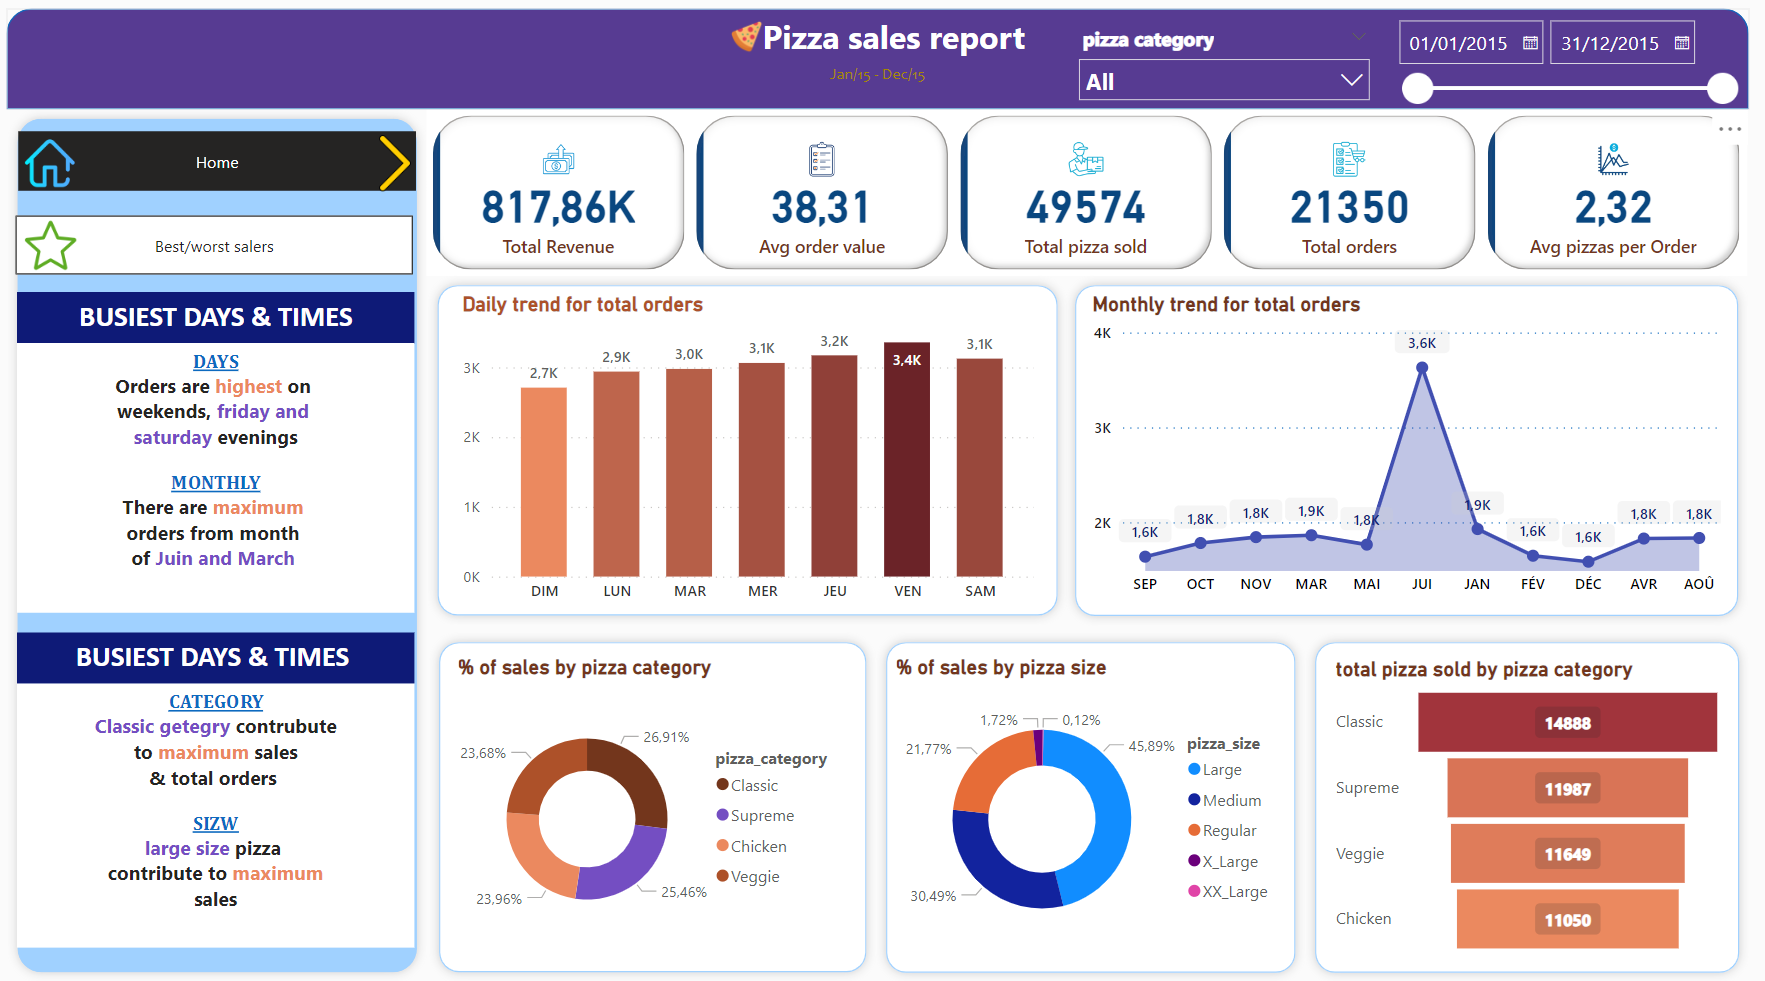

What the dashboard file says about the page in this screenshot:
{"tool":"powerbi","page":{"name":"Home","canvas":[1500,820],"ordinal":0},"visuals":[{"type":"shape","box":[37.4,94.7,347.5,724.9],"z":0},{"type":"textbox","box":[44.8,246.6,330.1,42.3],"z":1000},{"type":"cardVisual","fields":{"Data":["pizza_sales.Total Revenue","pizza_sales.Avg order value","pizza_sales.Total pizza sold","pizza_sales.Total orders","pizza_sales.Avg pizzas per Order"]},"box":[384.9,94.2,1096.9,138.8],"z":2000},{"type":"shape","box":[36.5,10.6,1446.8,83.7],"z":3000},{"type":"textbox","box":[651.4,11.2,242.9,46.1],"z":4000},{"type":"textbox","box":[702.1,49.6,114,31.4],"z":5000},{"type":"image","box":[629.4,16.5,43,36.3],"z":6000},{"type":"shape","box":[385.7,233.4,530.8,290.3],"z":7000},{"type":"columnChart","title":"Daily trend for total orders","fields":{"Category":["pizza_sales.Order day"],"Y":["pizza_sales.Total orders"]},"box":[409.7,246.1,484,266],"z":8000},{"type":"shape","box":[915.2,232.9,566.6,290.7],"z":9000},{"type":"areaChart","title":"Monthly trend for total orders","fields":{"Y":["pizza_sales.Total orders"],"Category":["pizza_sales.Order month"]},"box":[932.9,246.6,531.9,260.3],"z":10000},{"type":"shape","box":[387.7,529.2,370.8,290.1],"z":11000},{"type":"shape","box":[759.1,529.4,356,290.6],"z":12000},{"type":"shape","box":[1115.1,529.4,368.2,290.6],"z":13000},{"type":"donutChart","title":"% of sales by pizza category","fields":{"Category":["pizza_sales.pizza_category"],"Y":["pizza_sales.Total Revenue"]},"box":[406.2,547.7,331.6,252.5],"z":14000},{"type":"donutChart","title":"% of sales by pizza size","fields":{"Category":["pizza_sales.pizza_size"],"Y":["pizza_sales.Total Revenue"]},"box":[769.8,547.7,331.6,252.5],"z":15000},{"type":"funnel","title":"total pizza sold by pizza category","fields":{"Category":["pizza_sales.pizza_category"],"Y":["pizza_sales.Total pizza sold"]},"box":[1134.9,549.2,331.6,252.5],"z":16000},{"type":"textbox","box":[44.8,289,330.1,224.2],"z":17000},{"type":"textbox","box":[44.8,529.4,330.1,42.3],"z":18000},{"type":"textbox","box":[44.8,571.7,330.1,219.2],"z":19000},{"type":"slicer","fields":{"Values":["pizza_sales.pizza_category"]},"box":[917.3,19.8,261.7,74.5],"z":20000},{"type":"slicer","fields":{"Values":["pizza_sales.order_date"]},"box":[1179,10.6,302.7,91.3],"z":21000},{"type":"pageNavigator","box":[45.8,113.7,330.1,49.5],"z":22000},{"type":"pageNavigator","box":[44,183.4,330.1,49.5],"z":23000},{"type":"image","box":[330.1,108.2,56.8,62.3],"z":23001},{"type":"image","box":[45.8,108.2,51.3,62.3],"z":23002},{"type":"image","box":[45.8,172.4,53.2,71.5],"z":23003}]}

Visuals, with their boxes in screenshot pixels (x1, y1, x2, y2), scaled from the page's 1500x820 canvas onto the 1765x981 screenshot:
shape: 44/113/453/980
textbox: 53/295/441/346
cardVisual - pizza_sales.Total Revenue x pizza_sales.Avg order value: 453/113/1744/279
shape: 43/13/1745/113
textbox: 766/13/1052/69
textbox: 826/59/960/97
image: 741/20/791/63
shape: 454/279/1078/627
"Daily trend for total orders" columnChart: 482/294/1052/613
shape: 1077/279/1744/626
"Monthly trend for total orders" areaChart: 1098/295/1724/606
shape: 456/633/893/980
shape: 893/633/1312/980
shape: 1312/633/1745/980
"% of sales by pizza category" donutChart: 478/655/868/957
"% of sales by pizza size" donutChart: 906/655/1296/957
"total pizza sold by pizza category" funnel: 1335/657/1726/959
textbox: 53/346/441/614
textbox: 53/633/441/684
textbox: 53/684/441/946
slicer - pizza_sales.pizza_category: 1079/24/1387/113
slicer - pizza_sales.order_date: 1387/13/1743/122
pageNavigator: 54/136/442/195
pageNavigator: 52/219/440/279
image: 388/129/455/204
image: 54/129/114/204
image: 54/206/116/292
